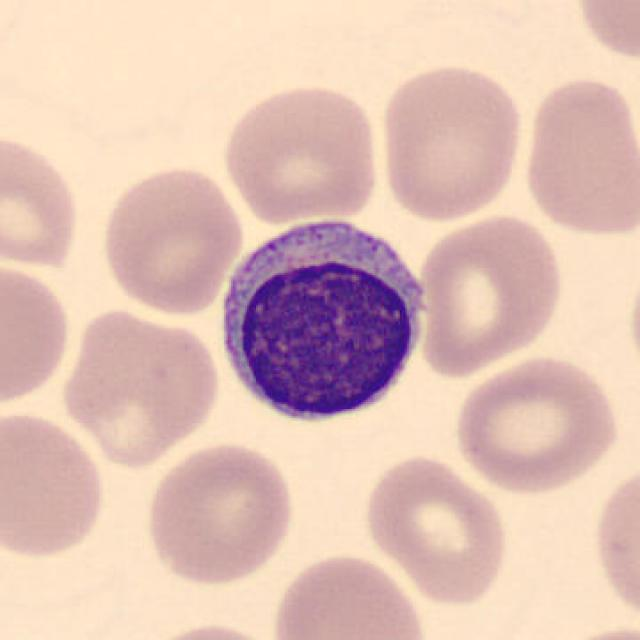Lymphocyte: (210, 206, 436, 434)
RBC: (57, 303, 224, 469), (412, 210, 566, 379), (448, 351, 622, 497), (375, 60, 528, 224), (359, 450, 512, 608), (219, 80, 382, 228), (140, 437, 298, 589), (96, 162, 247, 318), (518, 70, 638, 242), (0, 407, 108, 562), (268, 550, 431, 640), (0, 128, 85, 273), (0, 257, 75, 411), (588, 455, 640, 629), (567, 0, 640, 69), (134, 619, 286, 640), (624, 252, 640, 399)
